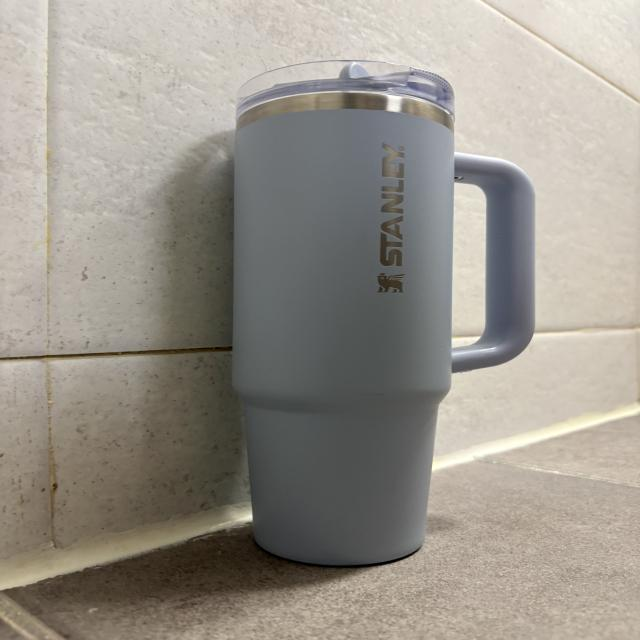waterbottle: (234, 58, 534, 567)
